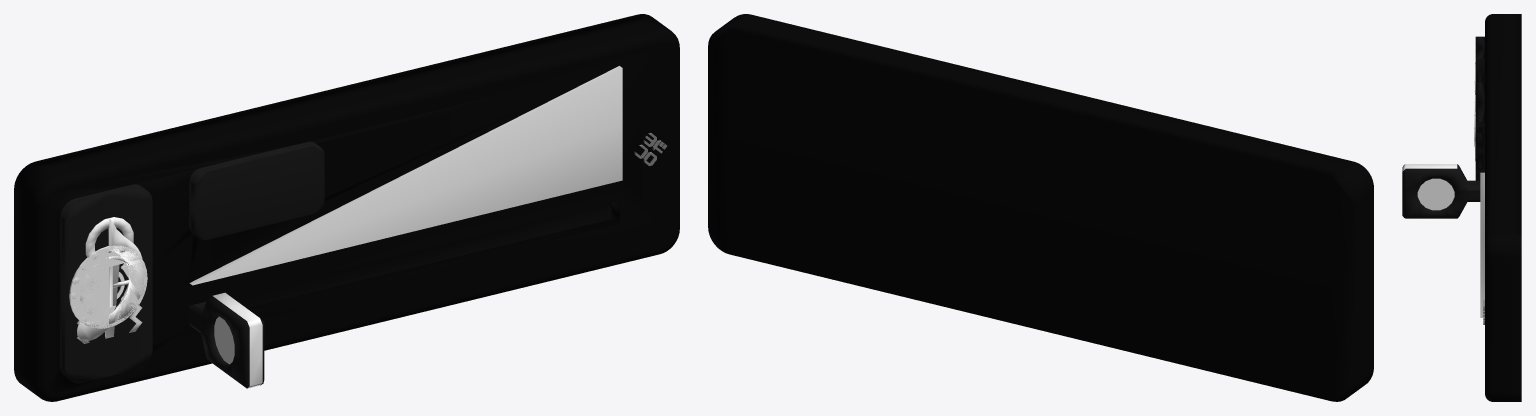
The model's file is YodoHapticSlider.fbx.
3 views of the same model, side by side, from view 1: azimuth 30°, elevation 25°; view 2: azimuth 150°, elevation 25°; view 3: azimuth 270°, elevation 25° (orthographic). The views are drawn at different scales.
Visible parts, largest first — view 1: Base, Slider, Contrast, Vibration, NightMode, PostProcess, Sound; view 2: Base; view 3: Base, Slider.
Part boxes in pixels (left/top/right/bottom): Base: left=14, top=14, right=679, bottom=401; Slider: left=189, top=292, right=264, bottom=388; Contrast: left=69, top=245, right=147, bottom=328; Vibration: left=77, top=217, right=142, bottom=343; NightMode: left=84, top=246, right=147, bottom=328; PostProcess: left=70, top=245, right=147, bottom=328; Sound: left=77, top=217, right=142, bottom=341; Base: left=708, top=14, right=1373, bottom=401; Base: left=1475, top=14, right=1521, bottom=401; Slider: left=1402, top=164, right=1480, bottom=218.
Bounding box in the file's own units: 30 × 10 × 6.5.
